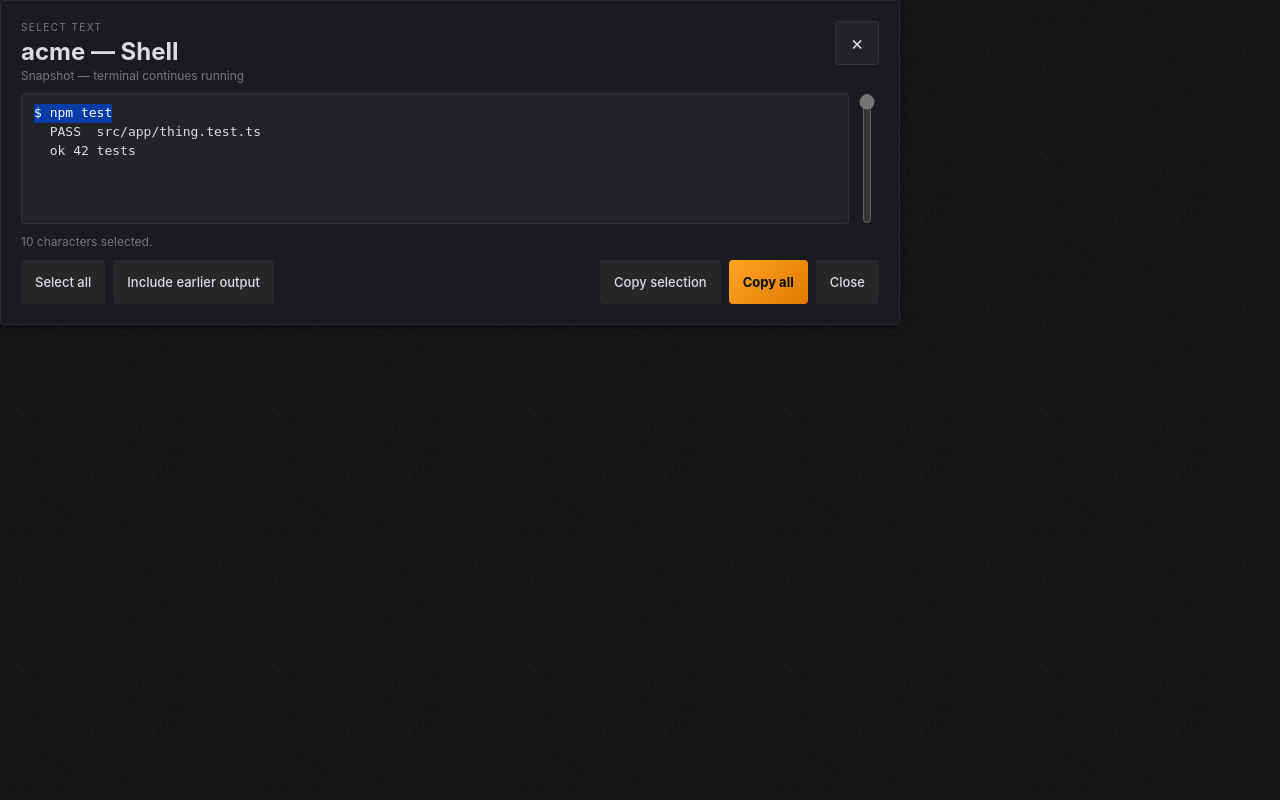
Test: TerminalTextSelectionDialog › include earlier output › warns that it replaces the text and clears the selection before doing it
Click the button "Include earlier output": (194, 282) [113,260,274,304]
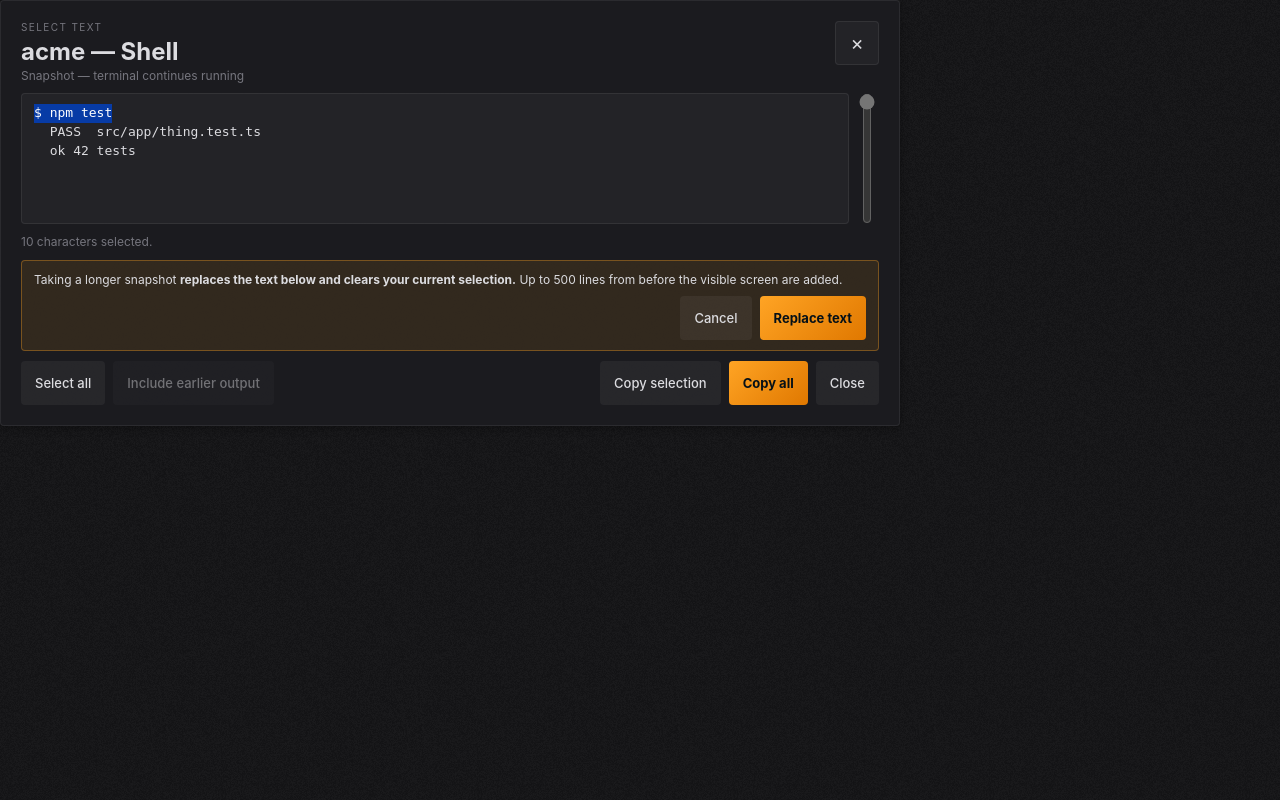
Expected: the text "replaces the text below and clears your current selection" is shown, [180,272,516,287]
Expected: the button "Cancel" is shown
Click the button "Cancel": (716, 318) [680,296,752,340]
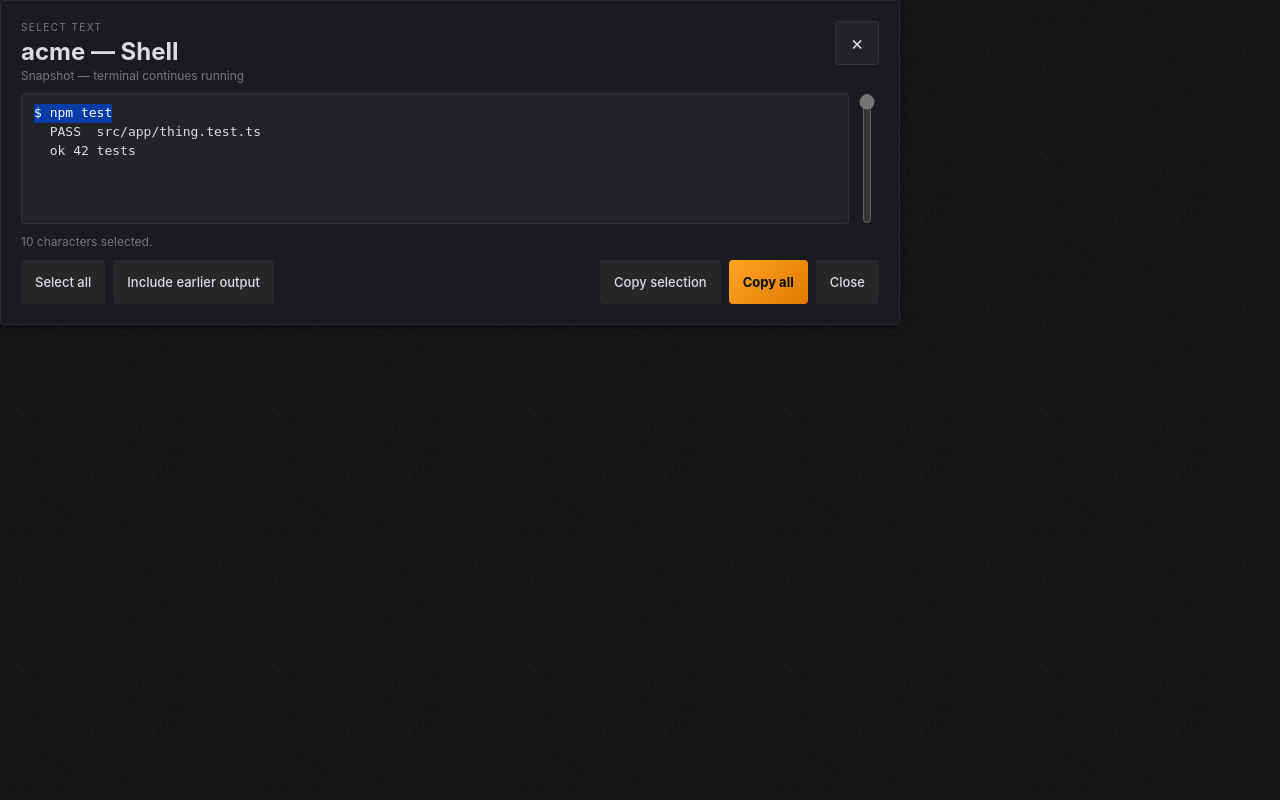
Expected: the text "replaces the text below" is gone
